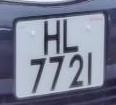1: (85, 50, 96, 90)
2: (67, 53, 86, 91)
7: (26, 55, 48, 95), (47, 53, 66, 92)
H: (41, 18, 62, 56)
L: (61, 16, 82, 53)
